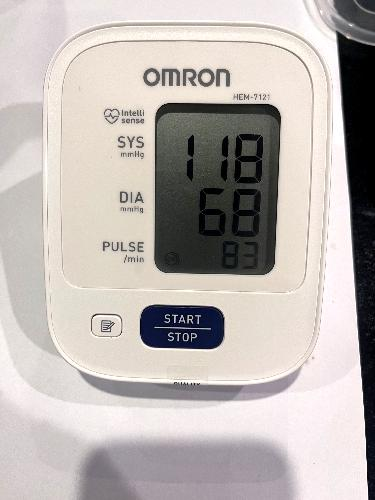bpm: (147, 99, 283, 279)
